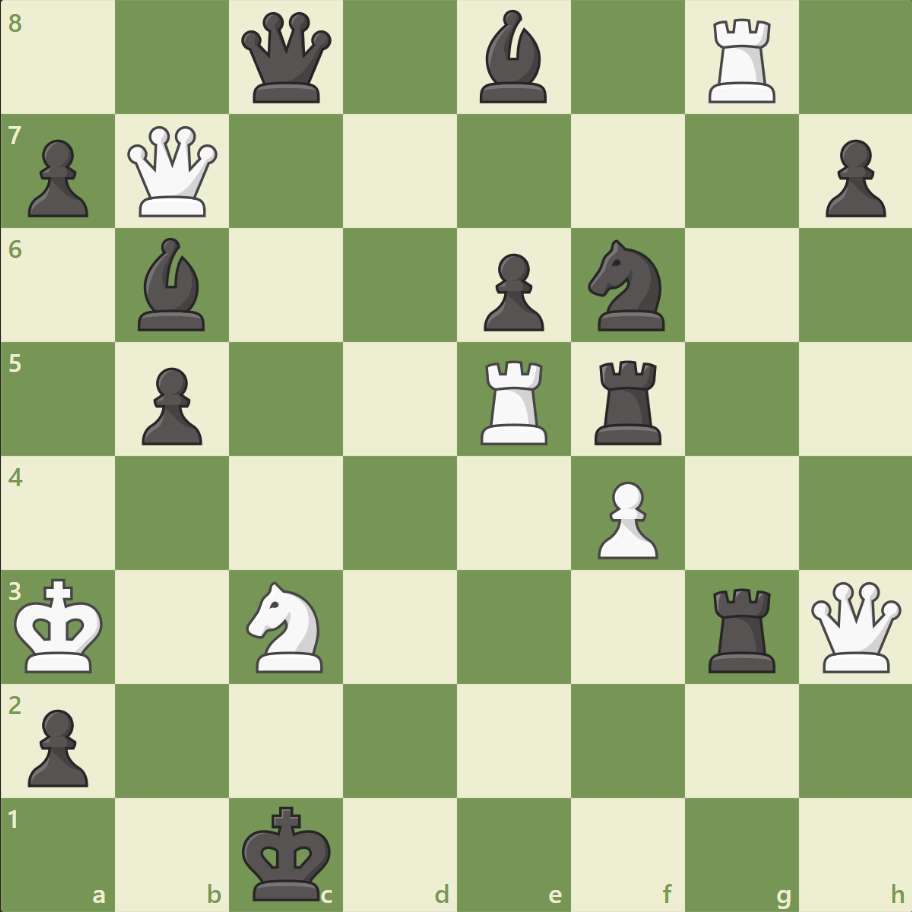K: (11, 571, 111, 679)
N: (238, 575, 335, 677)
P: (588, 473, 662, 564)
Q: (124, 122, 223, 222), (805, 576, 904, 676)
R: (700, 12, 783, 109), (473, 352, 556, 449)
b: (471, 6, 555, 109), (131, 233, 215, 336)
k: (238, 798, 338, 906)
n: (579, 234, 676, 337)
p: (20, 132, 95, 223), (474, 246, 549, 337), (133, 359, 208, 450), (20, 700, 95, 791), (815, 132, 889, 223)
q: (237, 9, 336, 108)
r: (587, 352, 670, 449), (700, 579, 783, 676)
